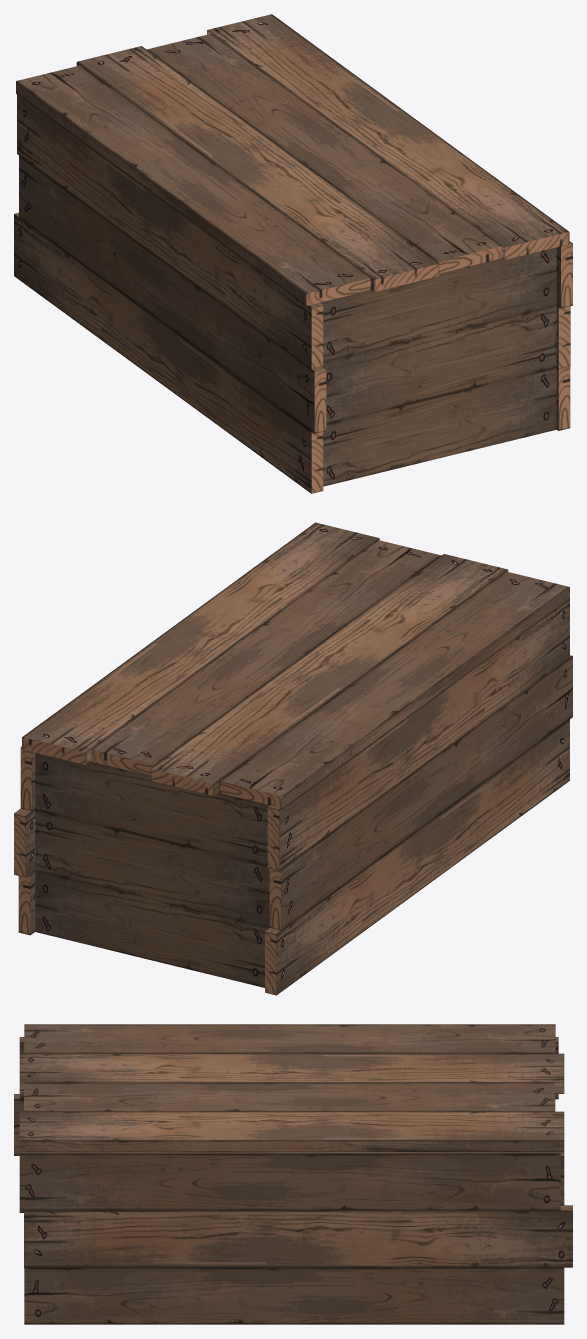
File: wooden_box.gltf
3 views of the same model, one above another, from view 1: azimuth 30°, elevation 25°; view 2: azimuth 150°, elevation 25°; view 3: azimuth 270°, elevation 25° (orthographic). The views are drawn at different scales.
Parts seen in each view (by area): view 1: compostBin01, compostBin_lid; view 2: compostBin01, compostBin_lid; view 3: compostBin01, compostBin_lid.
Part boxes in pixels (<box>): compostBin01: <box>14,94,572,493</box>; compostBin_lid: <box>16,14,569,305</box>; compostBin01: <box>14,599,572,995</box>; compostBin_lid: <box>22,522,569,808</box>; compostBin01: <box>14,1037,572,1324</box>; compostBin_lid: <box>19,1024,564,1152</box>.
Size of what is drawn, in the model's own units: 1.11 by 0.8 by 2.23.
